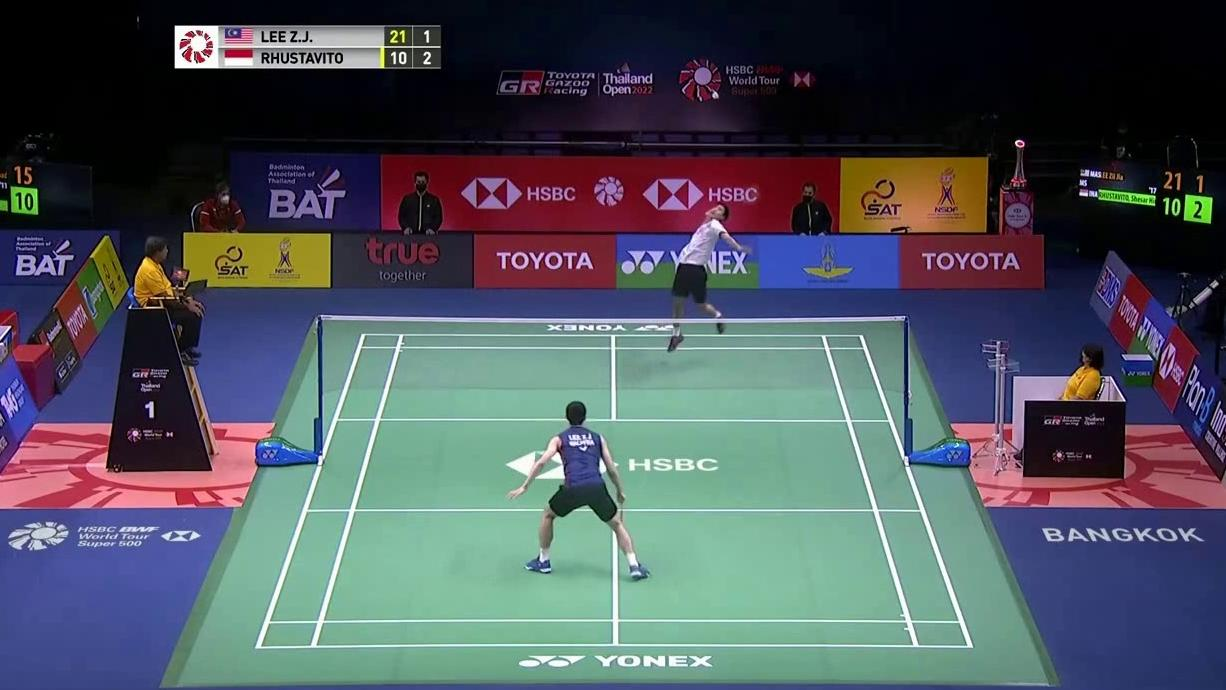shuttle: (712, 91, 719, 99)
